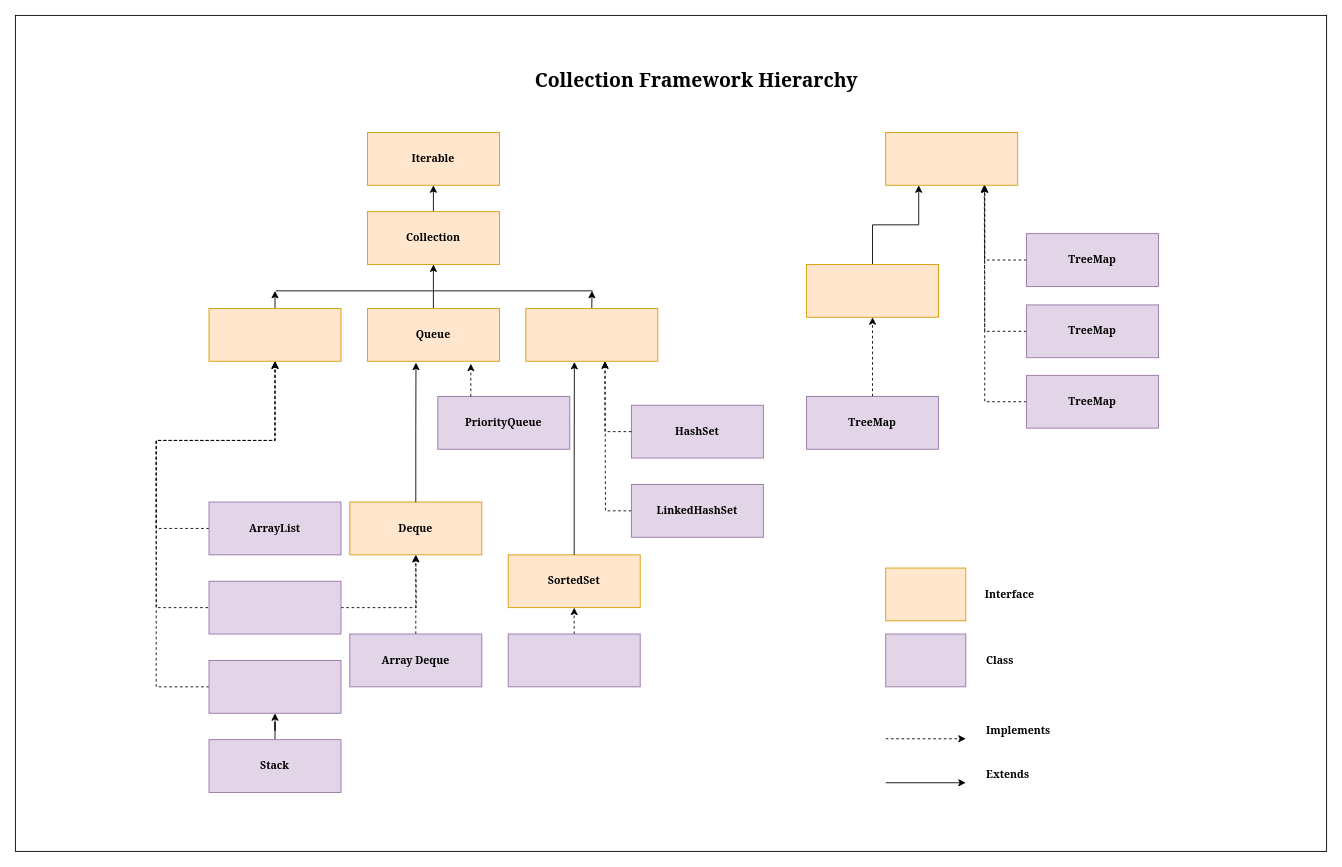
Image size: 1342x867. Some labels were removed from this diagram. The shapes that lost their labels are listed below. From the top down, each one's centre as x and y in pixels, then its label:
At pixel 951 158: "Map".
At pixel 872 290: "Sorted Map".
At pixel 274 334: "List".
At pixel 591 334: "Set".
At pixel 274 607: "LinkedList".
At pixel 573 660: "TreeSet".
At pixel 274 686: "Vector".
